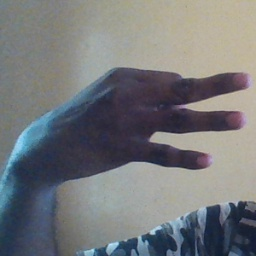K: (39, 67, 251, 178)
